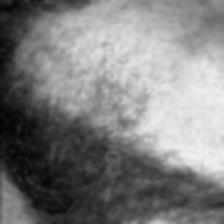Unclassified: (120, 81, 147, 131), (84, 61, 103, 117)
